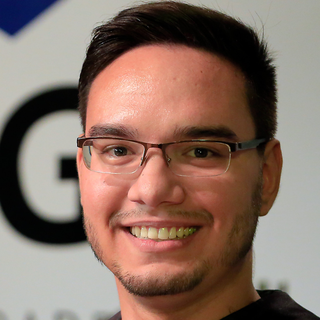eye: (177, 142, 225, 165), (95, 141, 139, 164)
